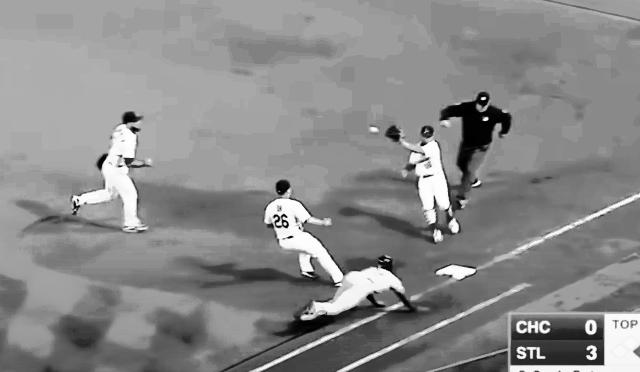jatuh: (292, 246, 438, 328)
